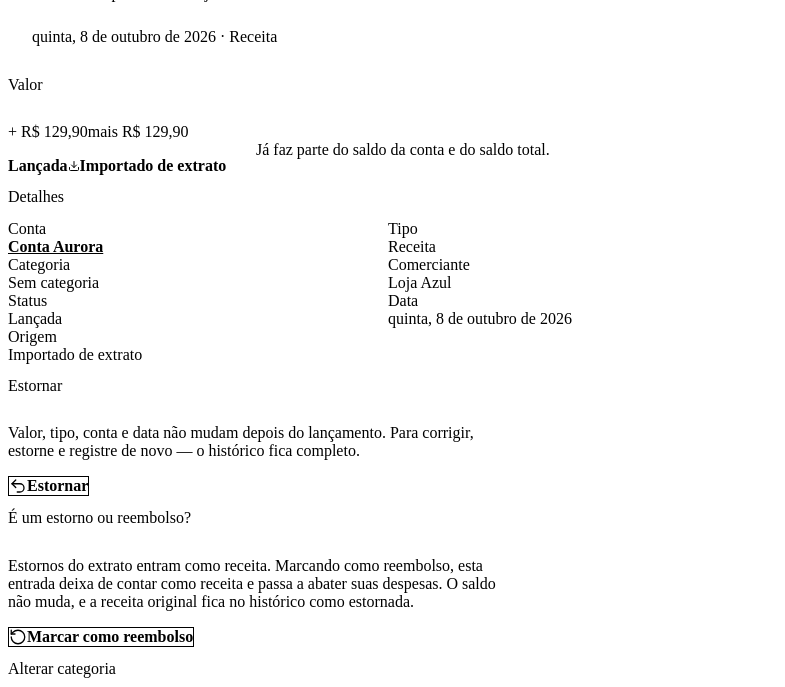
/transactions/{id} — detalhe e ações › marcar como reembolso › sem vínculo envia corpo vazio; regra do domínio vira mensagem clara
Step 1. Click the button "Marcar como reembolso" → (101, 637), box [8,627,194,647]
(page scrolled)
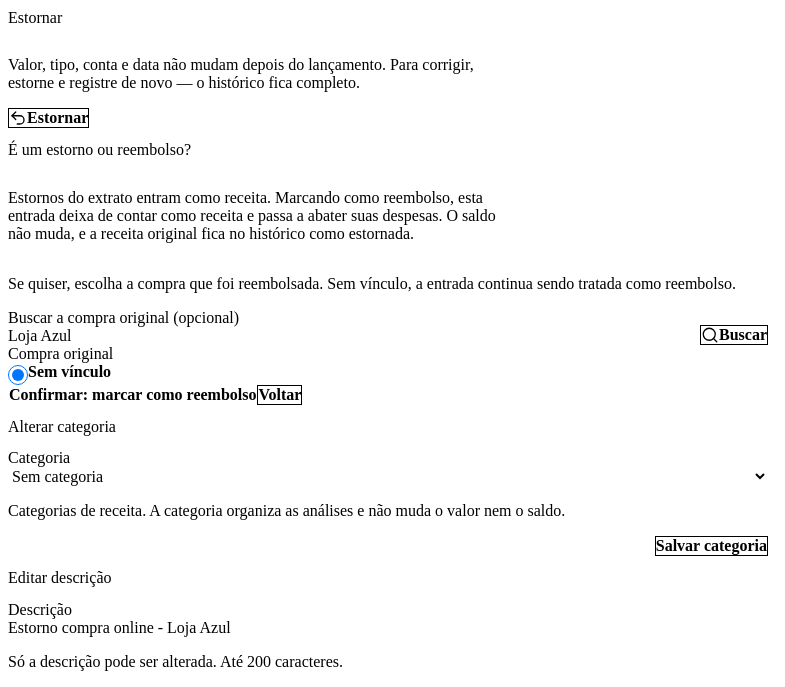
Step 2. Click the button "Confirmar: marcar como reembolso" → (133, 395), box [8,385,258,405]
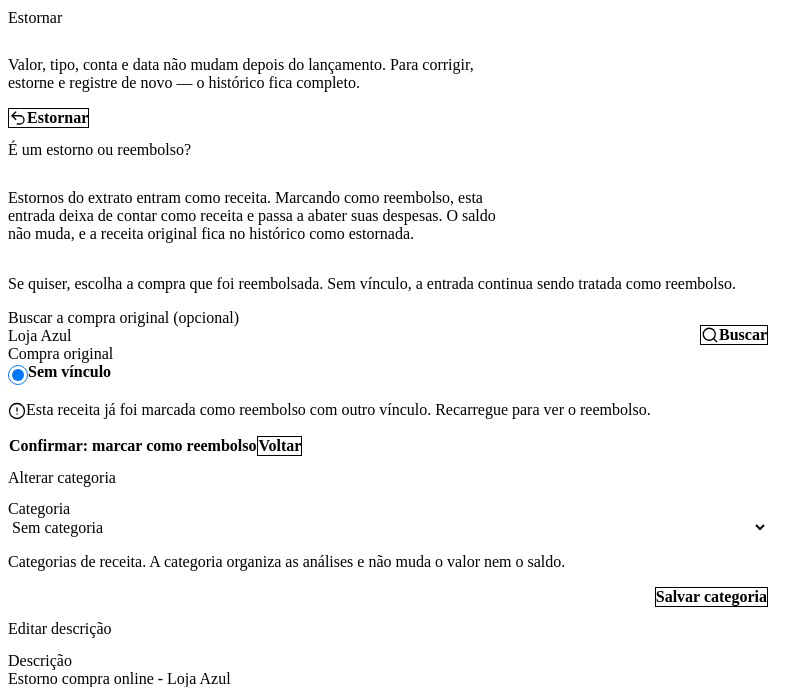
Now the message shows "já foi marcada como reembolso", box [26,401,651,418]
